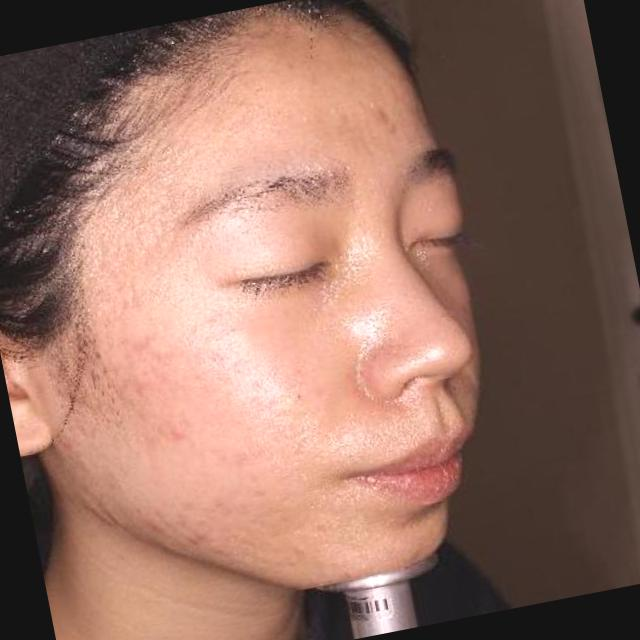darkspot: (366, 96, 400, 134), (144, 509, 170, 544)
